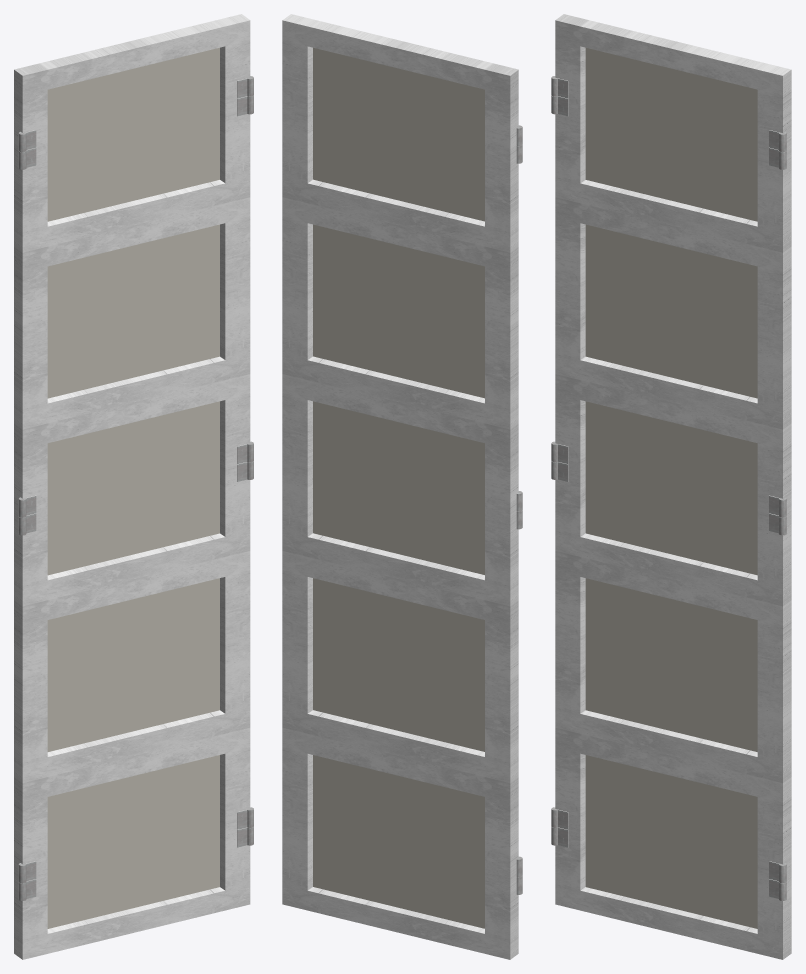
File: DoorRight2.fbx
3 renders of one model, left to right at view 1: azimuth 30°, elevation 25°; view 2: azimuth 150°, elevation 25°; view 3: azimuth 330°, elevation 25°, orthographic.
Visible parts, largest first — view 1: Door_Right2; view 2: Door_Right2; view 3: Door_Right2.
Boxes of the visible parts, x1=… form: Door_Right2: x1=14, y1=14, x2=253, y2=959; Door_Right2: x1=282, y1=14, x2=522, y2=959; Door_Right2: x1=551, y1=14, x2=791, y2=959.
Bounding box in the file's own units: 70.4 × 254 × 5.45.
3 materials, 2 textured.
